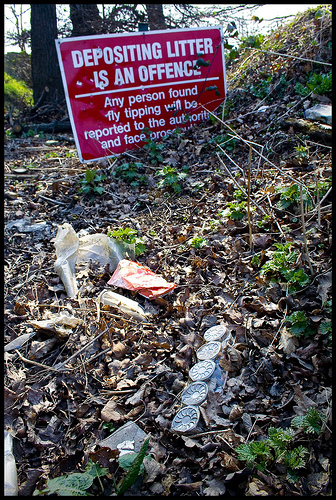rubble: (24, 155, 320, 438)
